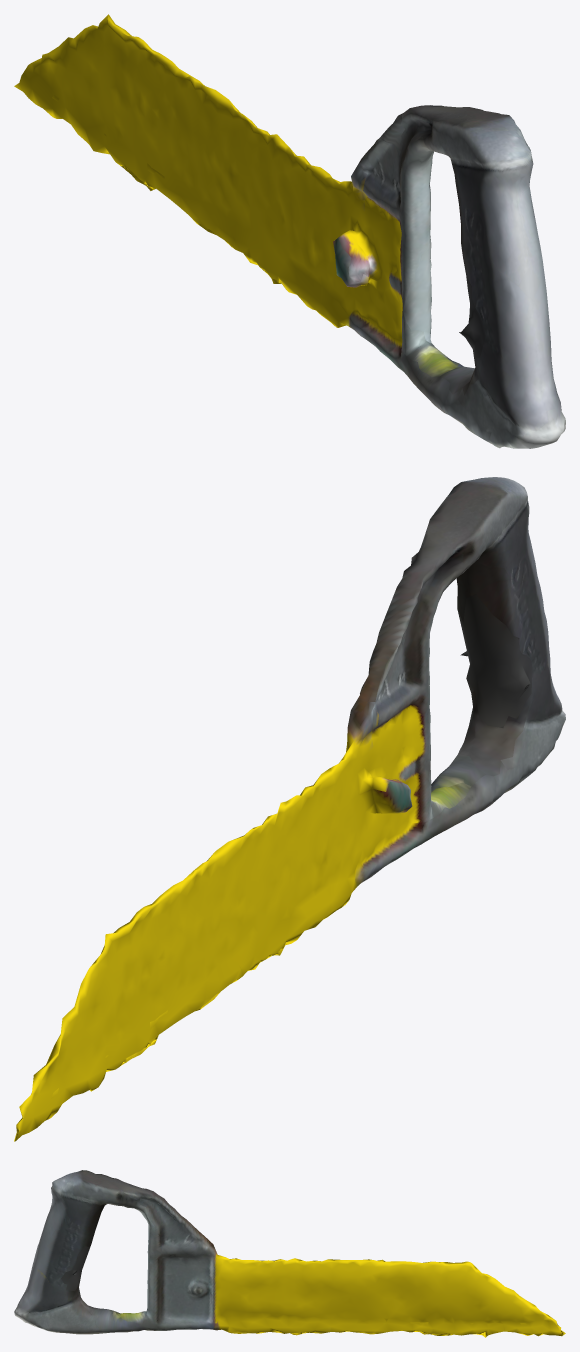
3 renders of one model, top to bottom at view 1: azimuth 30°, elevation 25°; view 2: azimuth 150°, elevation 25°; view 3: azimuth 270°, elevation 25°, orthographic. The views are drawn at different scales.
Visible parts, largest first — view 1: mmGroup0; view 2: mmGroup0; view 3: mmGroup0.
Part boxes in pixels (x1,y1,x2,y2): mmGroup0: [14, 14, 565, 448]; mmGroup0: [14, 477, 565, 1141]; mmGroup0: [14, 1170, 565, 1337].
Size of the model in its own units: 0.0294 by 0.1338 by 0.41.
2 materials, 2 textured.
